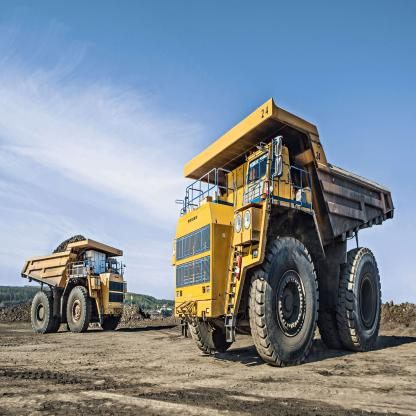dump_truck: (165, 92, 397, 374), (20, 235, 125, 347)
